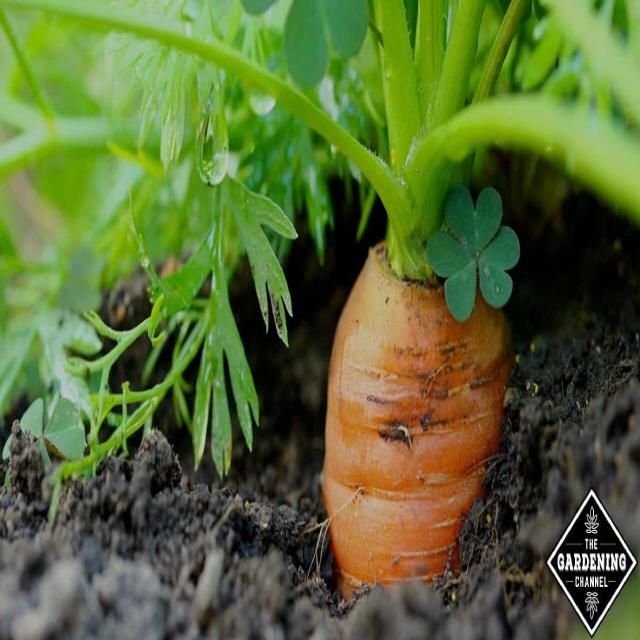carrot: (321, 234, 518, 608)
